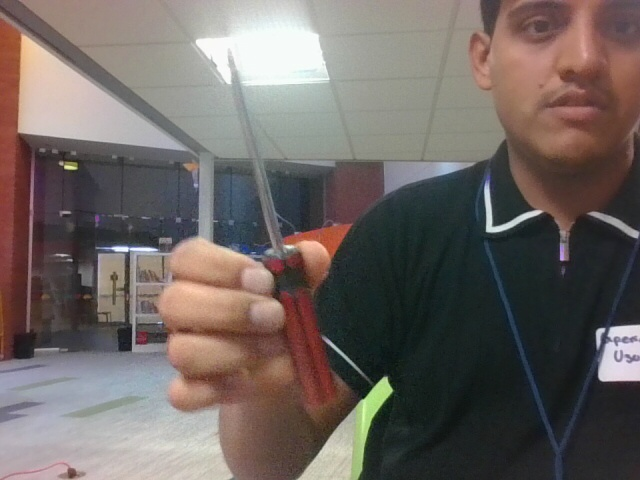destornillador: (227, 50, 337, 409)
